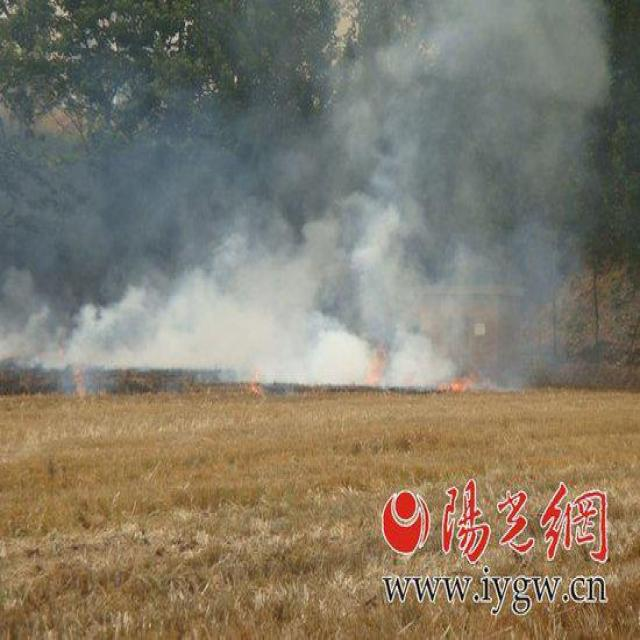fire: (430, 362, 482, 397), (359, 336, 388, 388), (246, 365, 266, 400), (70, 364, 89, 397)
smoke: (156, 228, 316, 362), (382, 294, 456, 384), (73, 284, 142, 362), (340, 201, 395, 283), (306, 320, 364, 372)
